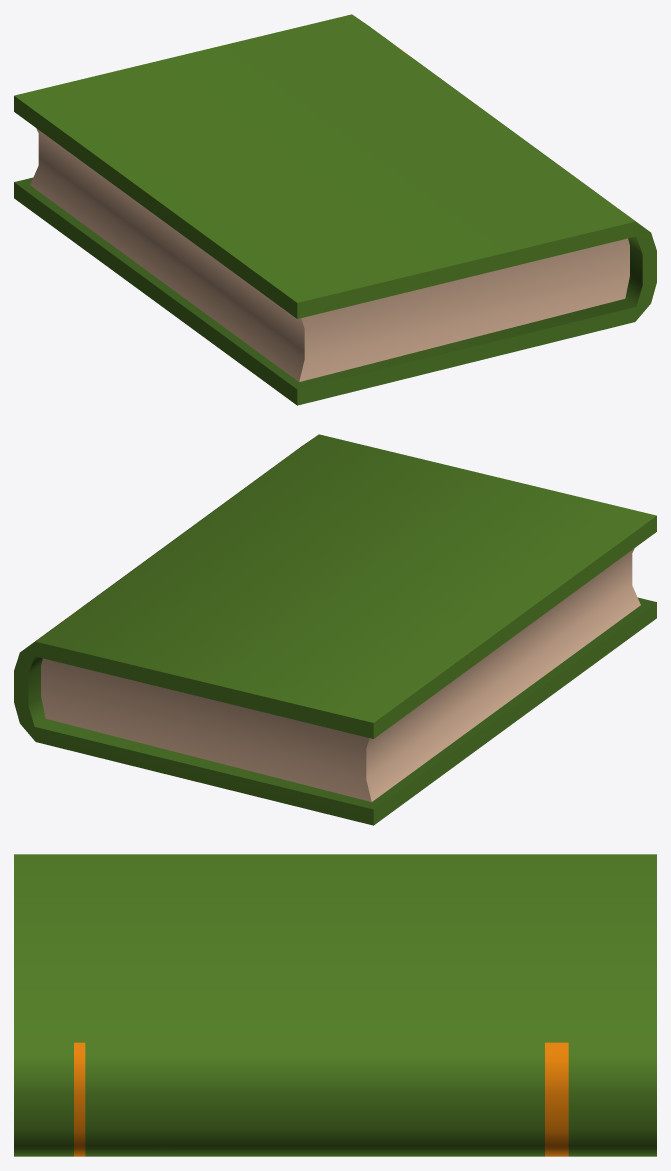
Rendered from BookClosed5.fbx.
3 renders of one model, top to bottom at view 1: azimuth 30°, elevation 25°; view 2: azimuth 150°, elevation 25°; view 3: azimuth 270°, elevation 25°, orthographic. The views are drawn at different scales.
Parts seen in each view (by area): view 1: BookClosed5; view 2: BookClosed5; view 3: BookClosed5.
Part boxes in pixels (x1=…): BookClosed5: x1=14, y1=14, x2=656, y2=405; BookClosed5: x1=14, y1=434, x2=656, y2=825; BookClosed5: x1=14, y1=854, x2=656, y2=1156.
Bounding box in the file's own units: 22 × 6 × 30.01.
